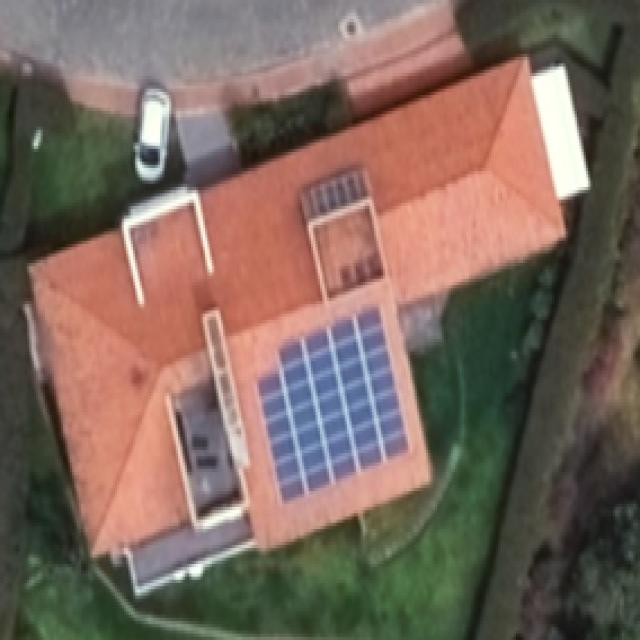Batiment: (31, 58, 564, 591)
